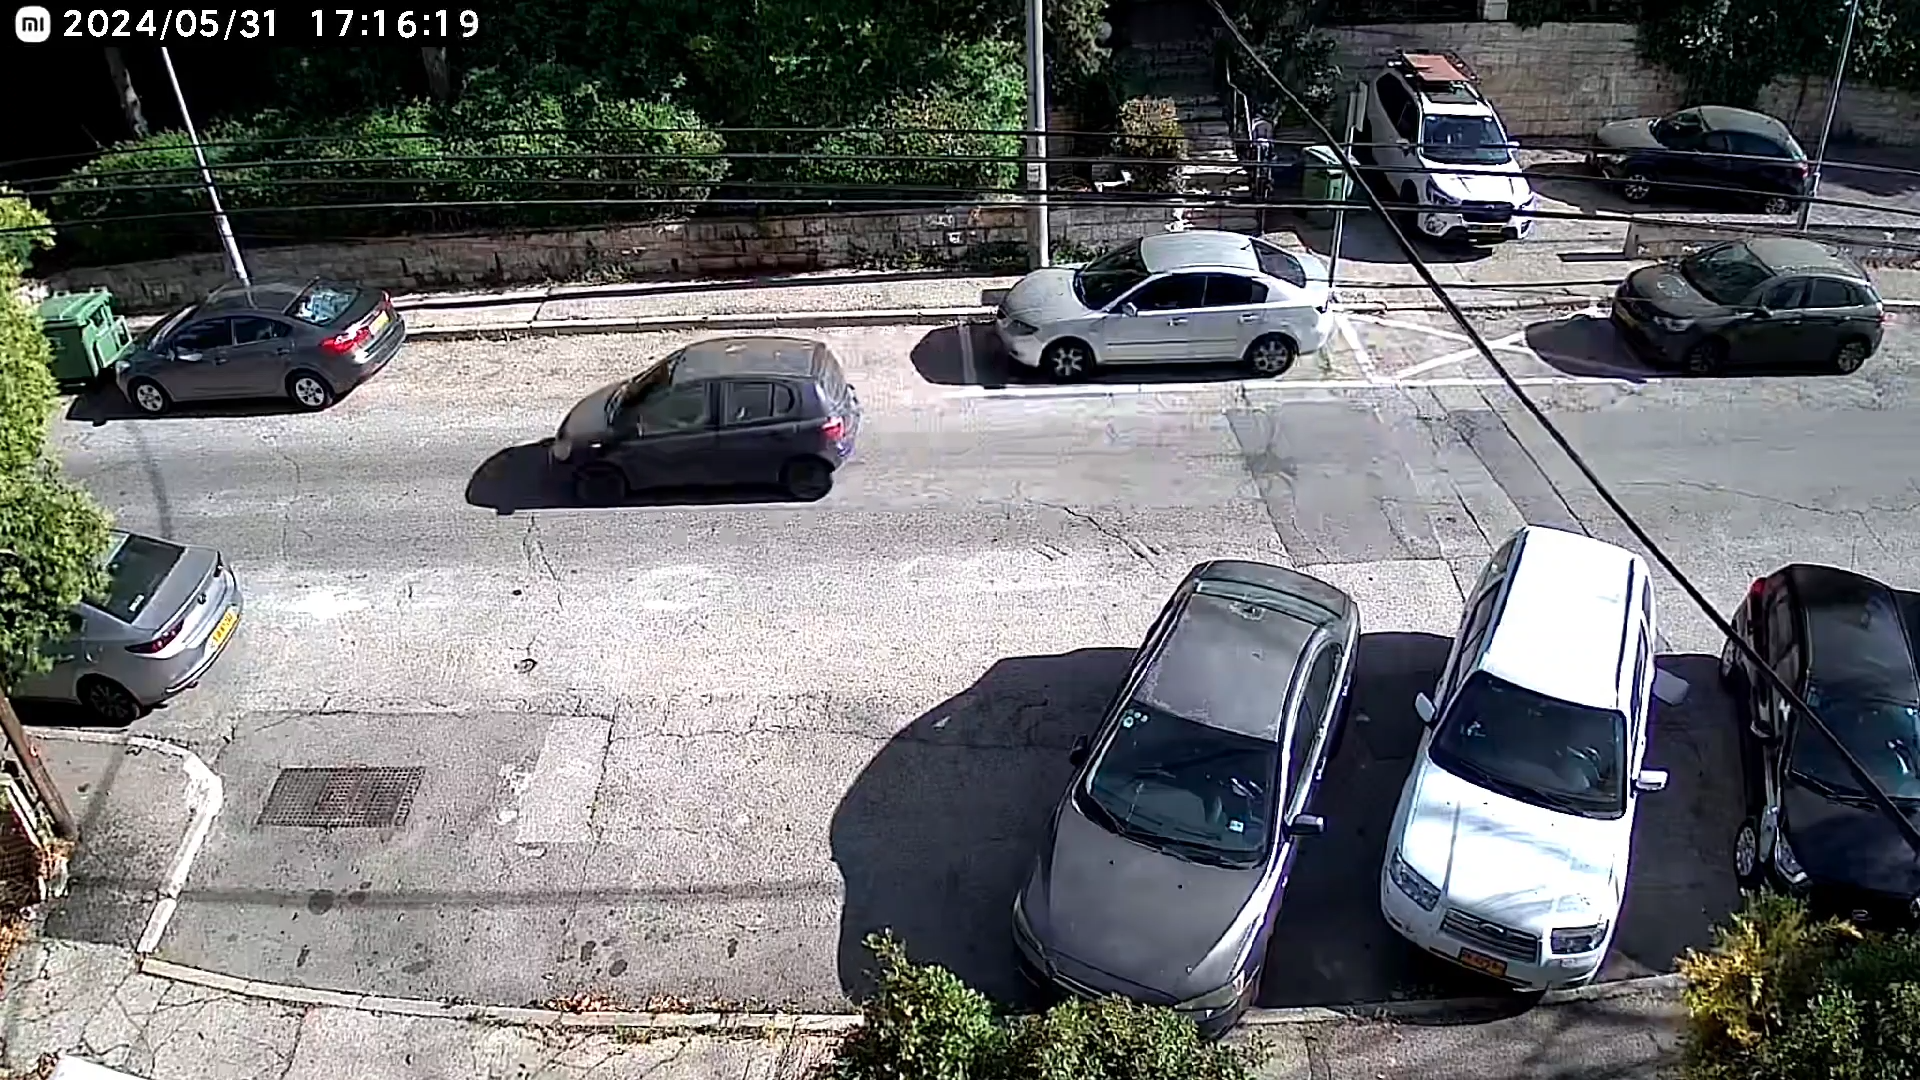moving car: (546, 338, 858, 489)
